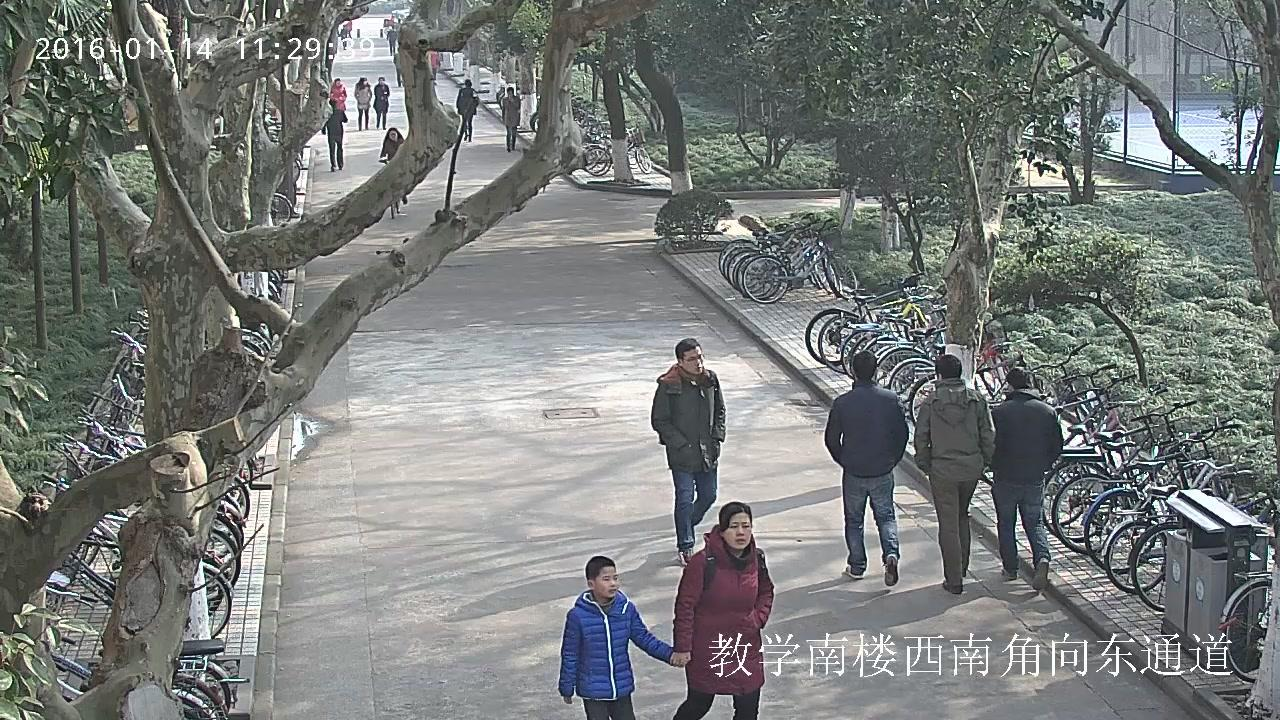person: (671, 502, 773, 720), (824, 351, 907, 585), (558, 554, 674, 720), (913, 354, 993, 593), (650, 337, 725, 565), (991, 368, 1064, 588), (379, 127, 406, 218), (380, 127, 406, 203), (322, 99, 347, 172), (456, 78, 478, 141), (501, 87, 519, 152), (354, 77, 371, 130), (372, 77, 389, 130), (330, 78, 346, 109), (394, 47, 404, 86), (386, 26, 396, 55)
